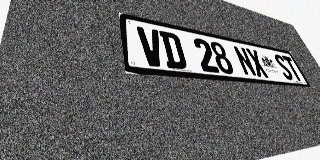2: (192, 37, 220, 73)
8: (208, 40, 235, 74)
D: (159, 30, 188, 70)
N: (232, 45, 258, 77)
S: (272, 53, 295, 80)
T: (281, 55, 304, 81)
V: (136, 26, 166, 68)
X: (245, 48, 269, 78)
